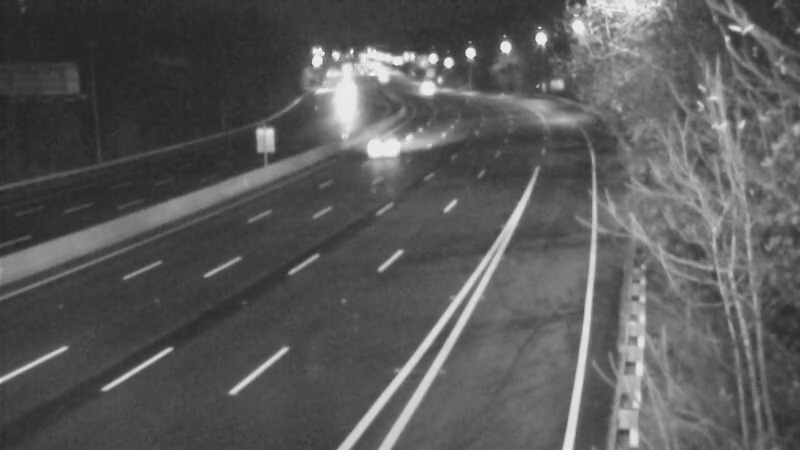vehicle: (343, 113, 423, 193), (405, 62, 455, 112)
